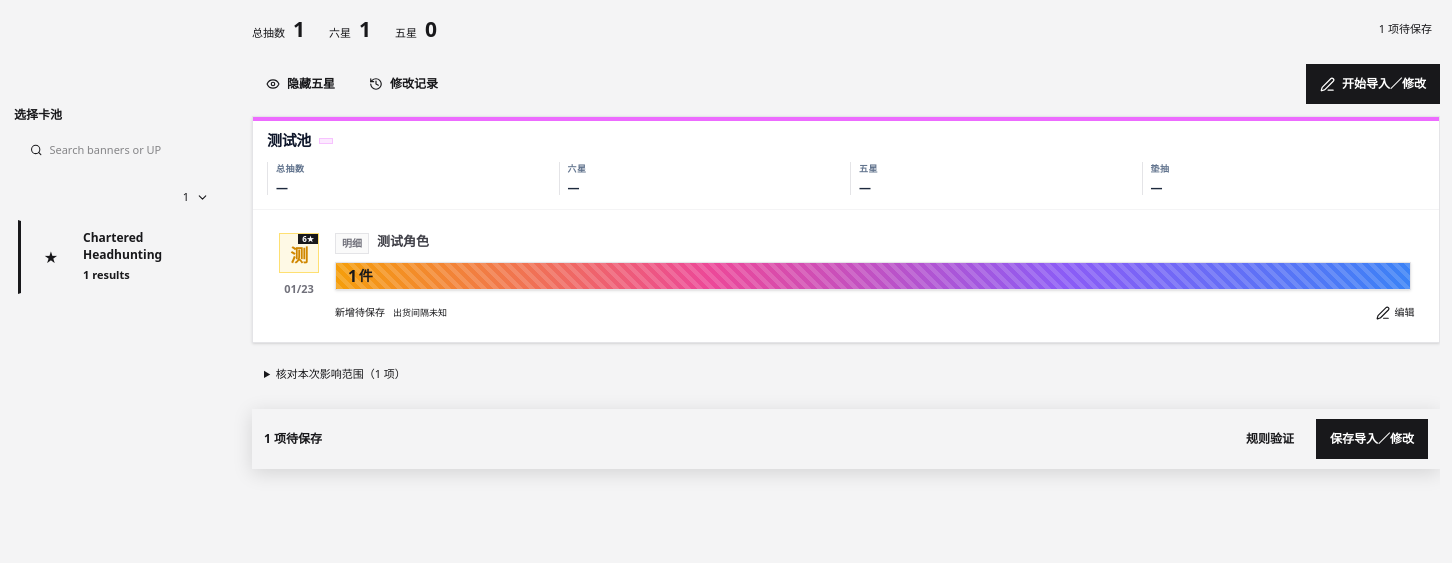
Test: workbench account workspace › retains the local draft after a 409 and requires validation again instead of blind retry
This screenshot has width=1452, height=563.
Expected: the button "开始导入／修改" is enabled, [1306, 64, 1440, 104]
Click the button "规则验证": point(1270, 439) [1232, 419, 1308, 459]
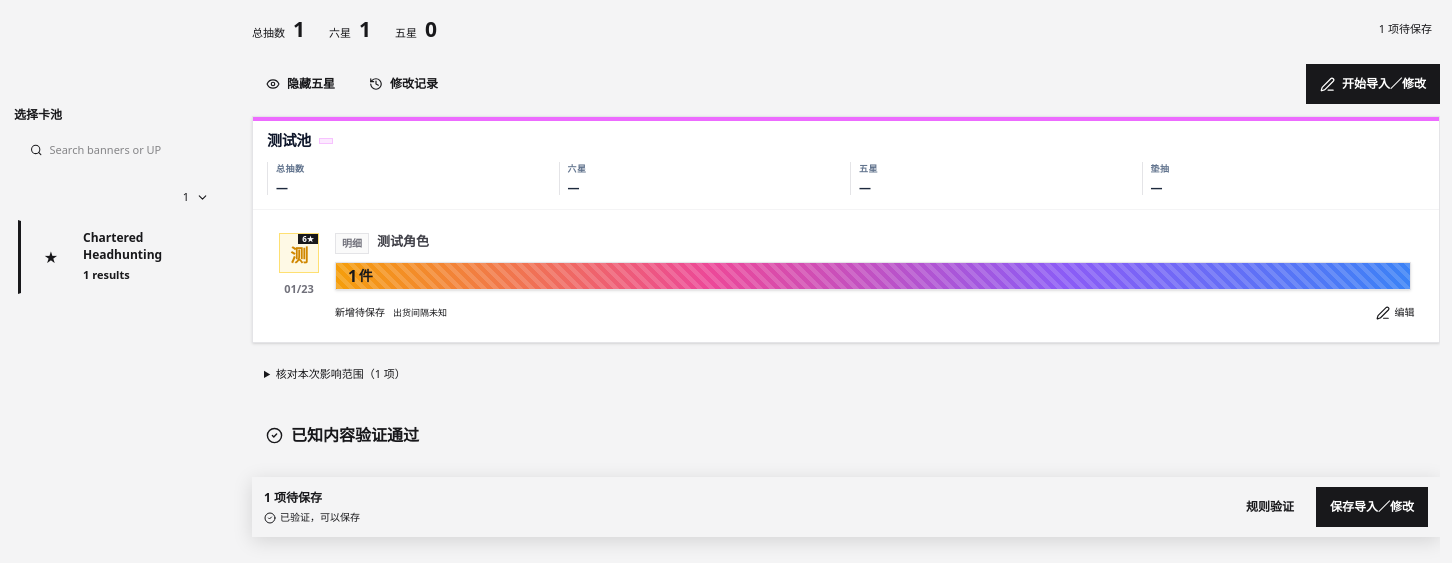
Now the element named "规则验证结果" is shown, box [266, 424, 419, 446]
Click the button "保存导入／修改": point(1372, 507) [1316, 487, 1428, 527]
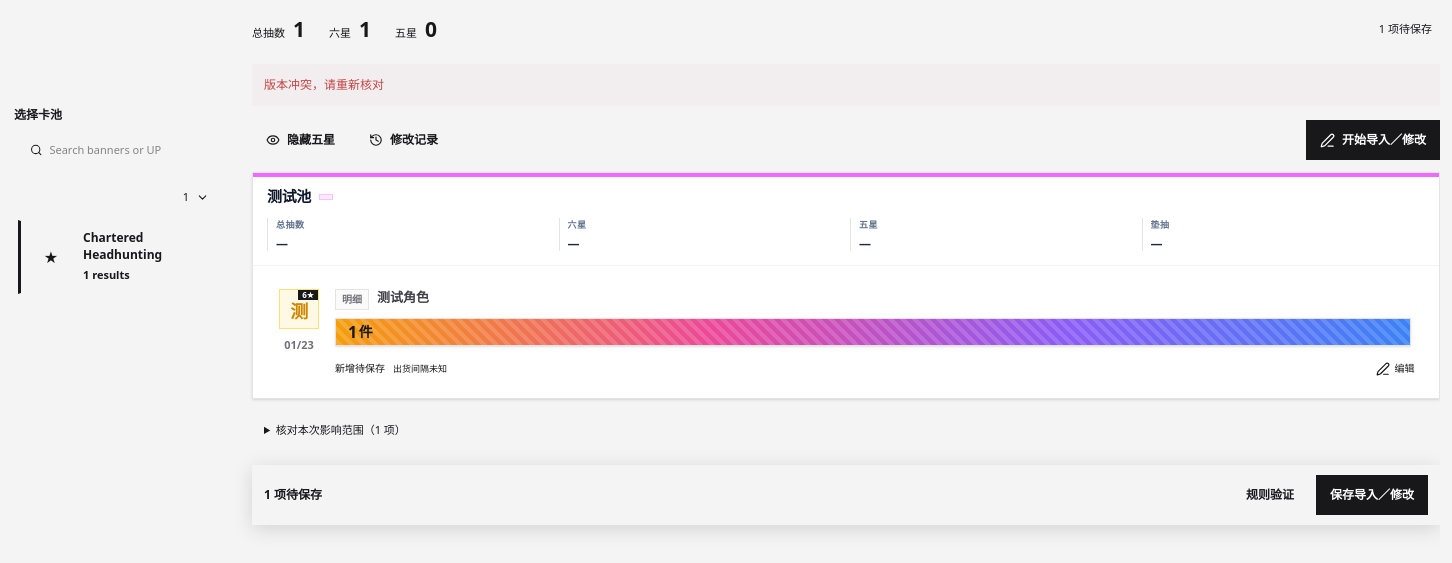
Now the message reads "版本冲突，请重新核对", box [264, 76, 384, 93]
Now the button "保存导入／修改" is disabled, box [1316, 475, 1428, 515]
Click the button "规则验证": point(1270, 495) [1232, 475, 1308, 515]
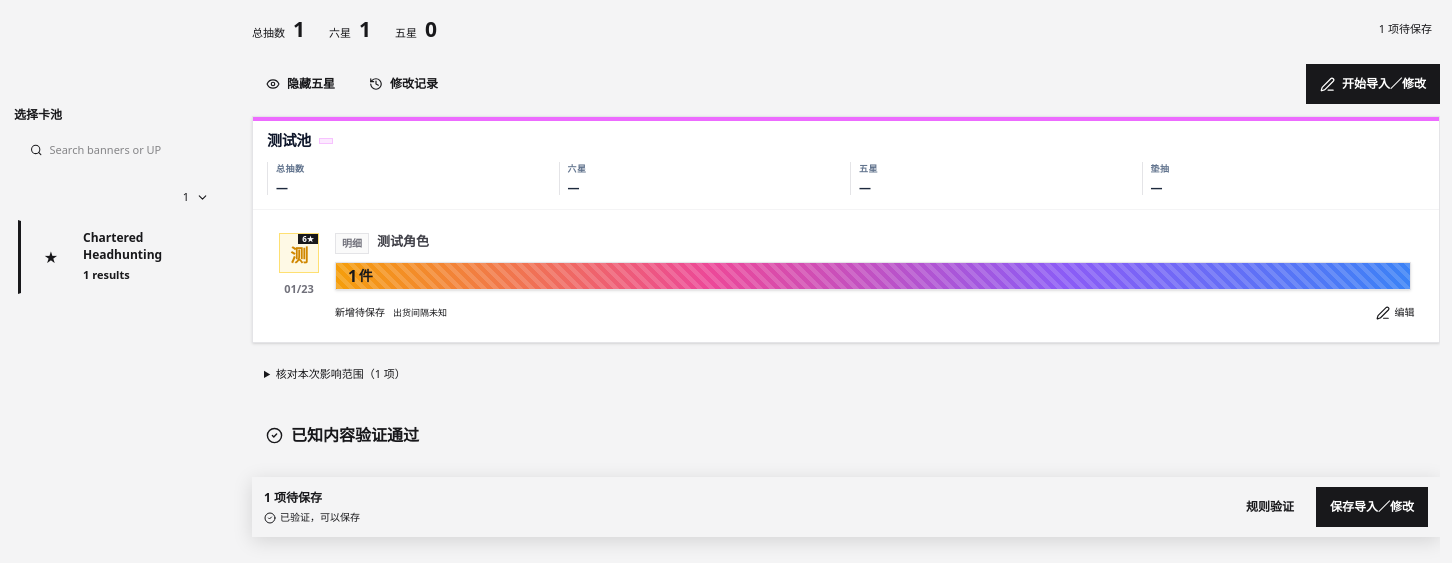
Now the element named "规则验证结果" is shown, box [266, 424, 419, 446]
